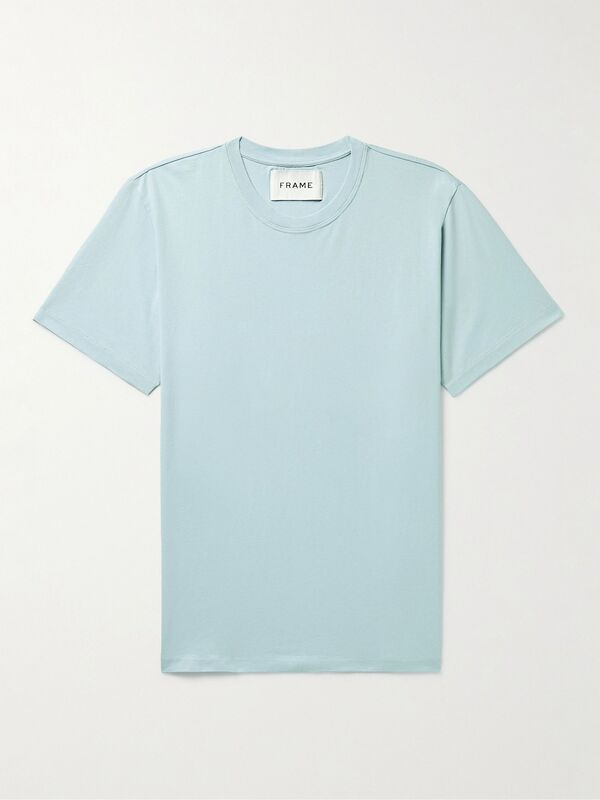tshirt: (28, 109, 567, 683)
